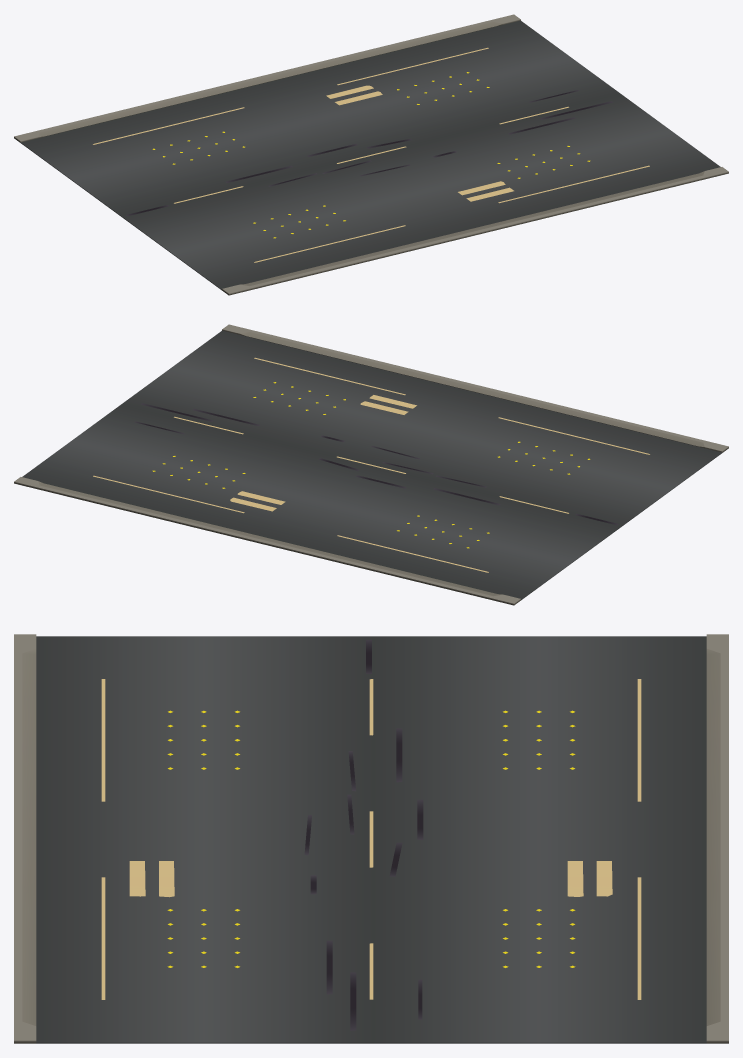
Rendered from Runway_1C.fbx.
3 renders of one model, top to bottom at view 1: azimuth 30°, elevation 25°; view 2: azimuth 150°, elevation 25°; view 3: azimuth 270°, elevation 25°, orthographic. The views are drawn at different scales.
Visible parts, largest first — view 1: Runway_1C; view 2: Runway_1C; view 3: Runway_1C.
Boxes of the visible parts, x1=… form: Runway_1C: x1=14, y1=14, x2=728, y2=295; Runway_1C: x1=14, y1=324, x2=728, y2=605; Runway_1C: x1=14, y1=634, x2=728, y2=1043.
Size of the model in its own units: 8600 by 30 by 6400.
